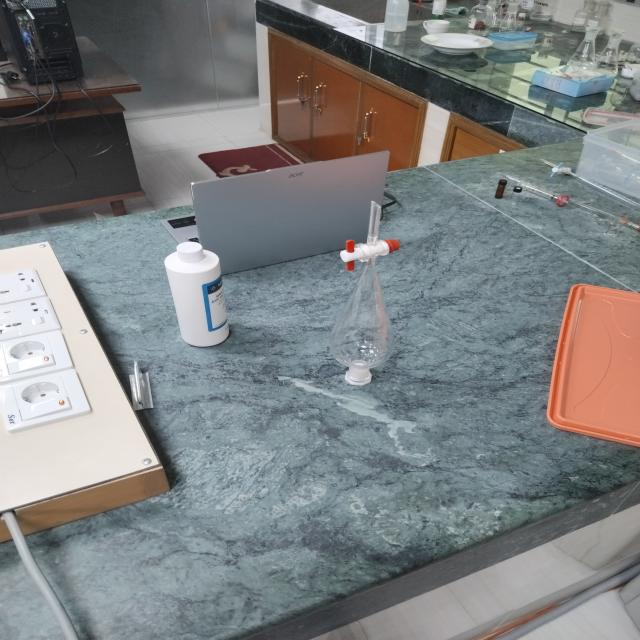Separating_Funnel: (315, 182, 442, 410)
